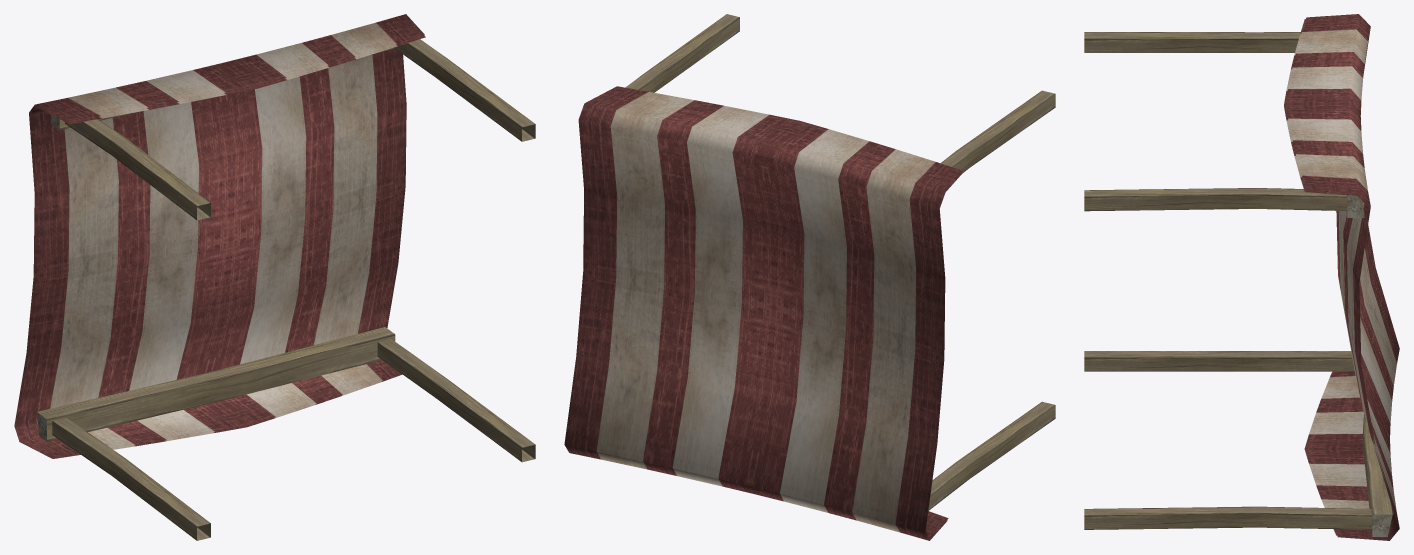
File: Merchant_Tent_Type_03_A.fbx
The picture shows the model from 3 angles, left to right: view 1: azimuth 30°, elevation 25°; view 2: azimuth 150°, elevation 25°; view 3: azimuth 270°, elevation 25°; orthographic projection. The views are drawn at different scales.
Parts seen in each view (by area): view 1: Merchant_Tent_Type_03_A; view 2: Merchant_Tent_Type_03_A; view 3: Merchant_Tent_Type_03_A.
Boxes of the visible parts, x1,y1,x2,y2 form: Merchant_Tent_Type_03_A: [14, 14, 535, 540]; Merchant_Tent_Type_03_A: [564, 14, 1055, 540]; Merchant_Tent_Type_03_A: [1084, 14, 1399, 540].
Bounding box in the file's own units: 5.26 × 4.73 × 3.89.
